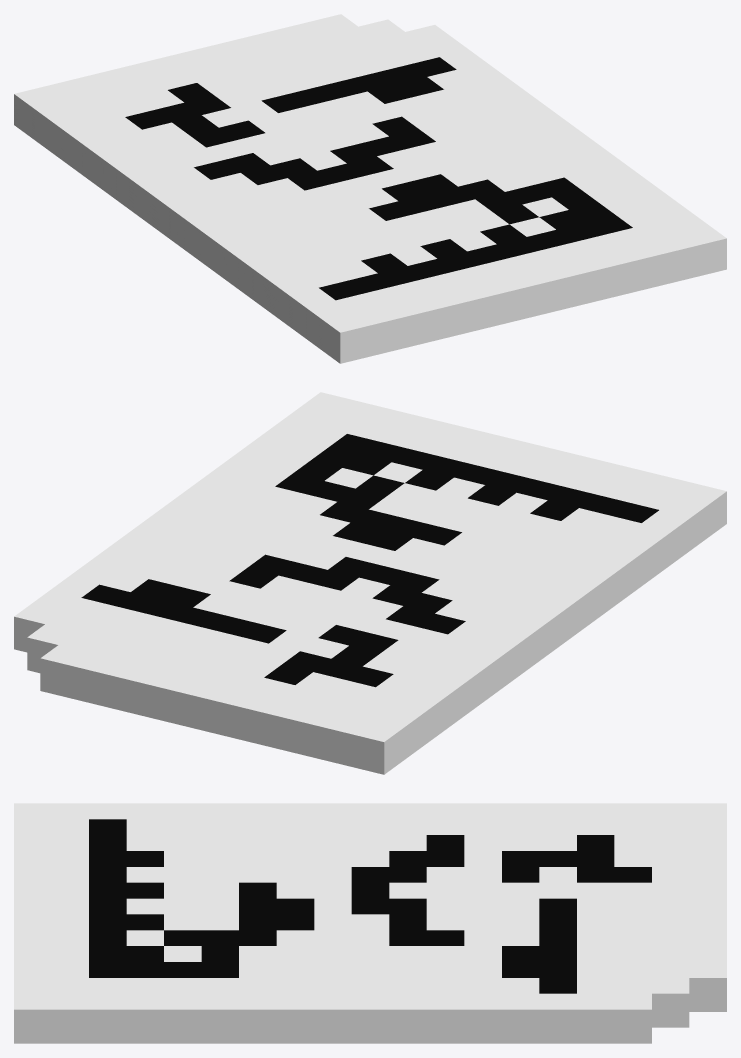
File: written paper.gltf
The picture shows the model from 3 angles, top to bottom: view 1: azimuth 30°, elevation 25°; view 2: azimuth 150°, elevation 25°; view 3: azimuth 270°, elevation 25°; orthographic projection. The views are drawn at different scales.
Visible parts, largest first — view 1: Layer.1; view 2: Layer.1; view 3: Layer.1.
Part boxes in pixels (bbox=[...]): Layer.1: bbox=[14, 14, 726, 363]; Layer.1: bbox=[14, 392, 726, 774]; Layer.1: bbox=[14, 803, 726, 1043].
Bounding box in the file's own units: 13 × 1 × 19.
Materials: 1 (1 with a texture image).
